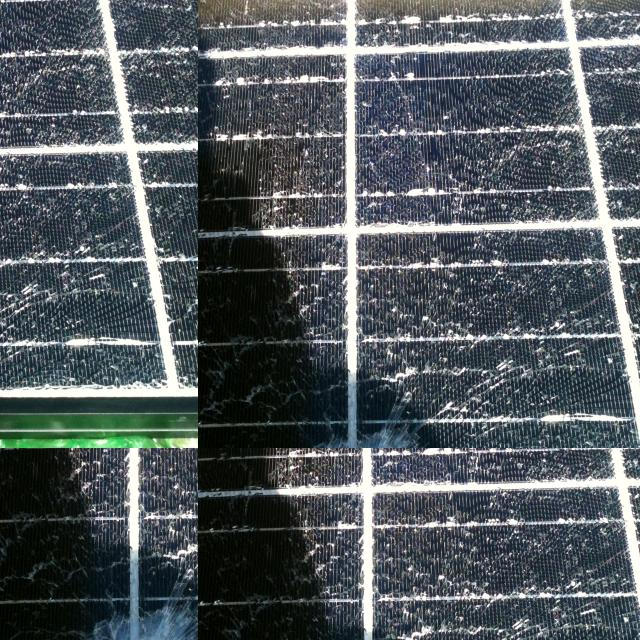bird: (0, 192, 47, 324), (122, 50, 198, 126), (0, 37, 38, 143), (27, 164, 90, 227), (0, 92, 28, 166)
crack: (0, 448, 63, 528)
shadow: (198, 46, 234, 132)
